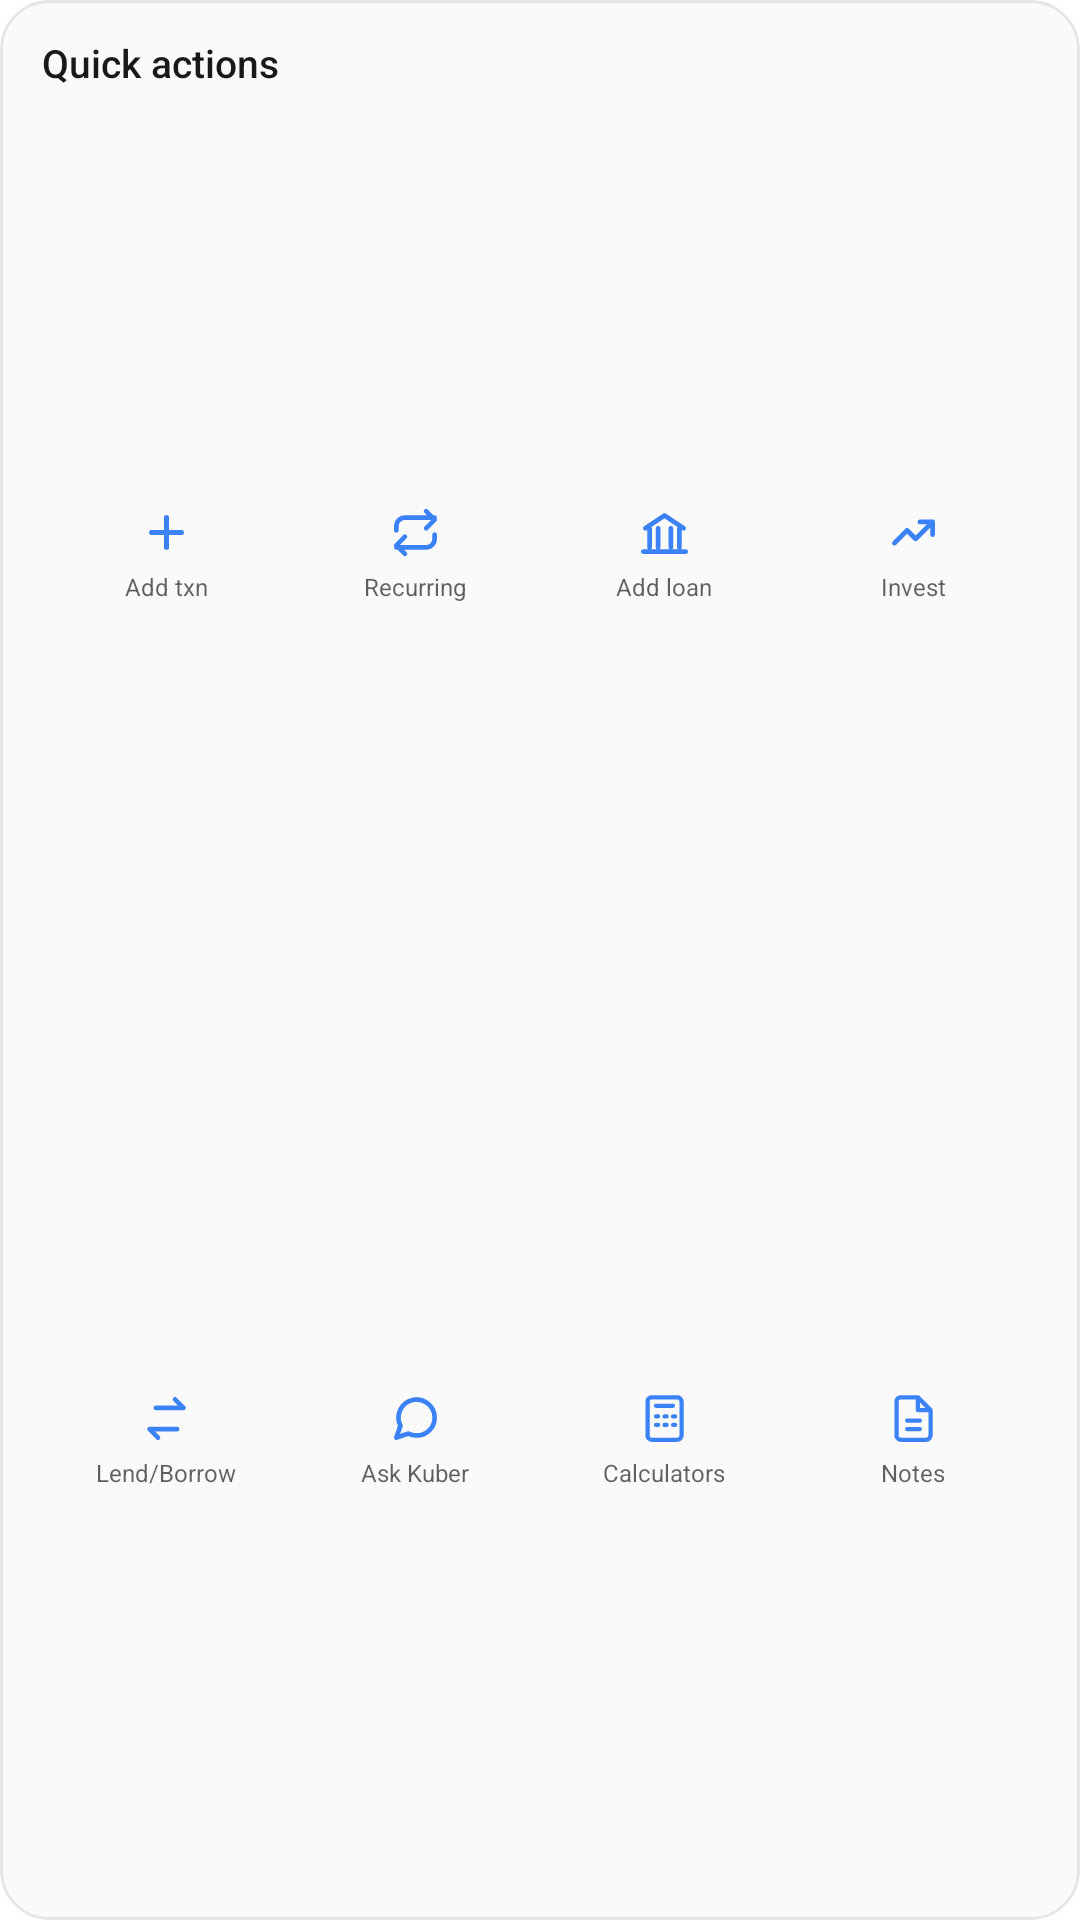

Point at icon controls on the screen. Image size 1080 × 1920, points as (x=x, y=y).
widget bank: (x=664, y=533)
widget chat: (x=415, y=1418)
widget plus: (x=166, y=532)
widget swap: (x=166, y=1418)
widget trending up: (x=913, y=532)
